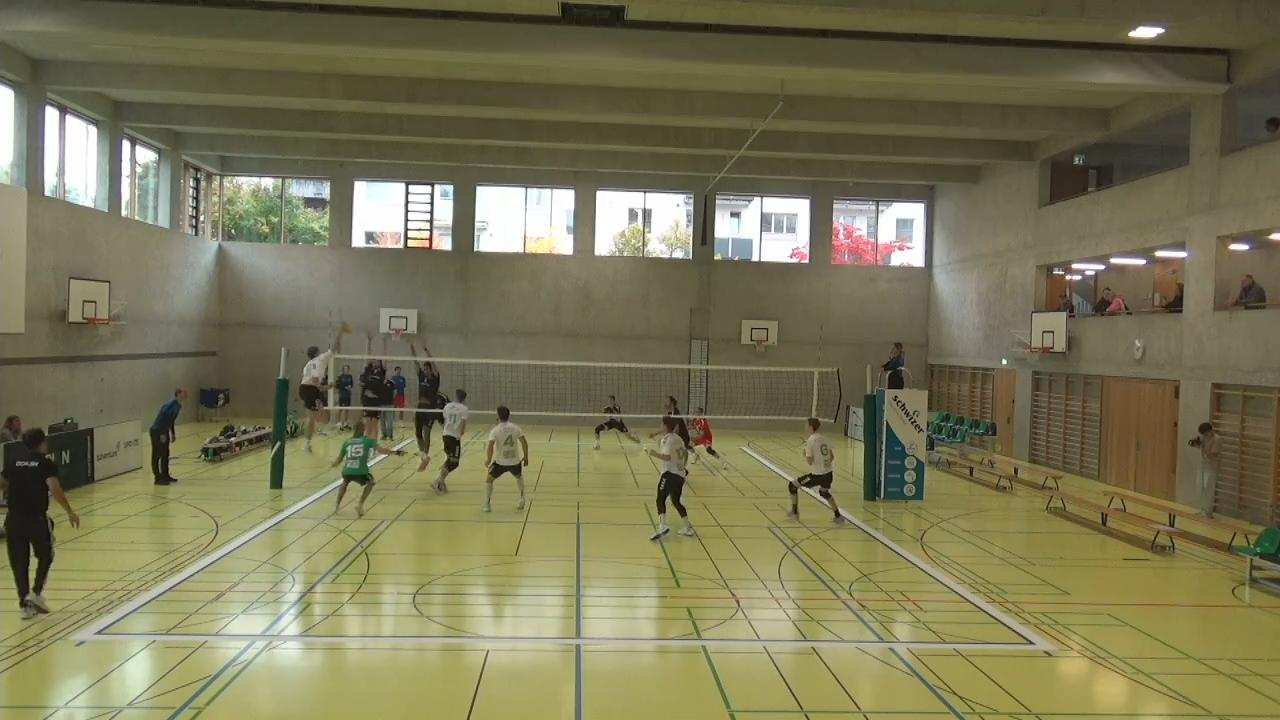Attack: (287, 322, 352, 461)
Block: (394, 321, 445, 478), (355, 320, 392, 456)
Player: (785, 414, 845, 522), (649, 418, 693, 540), (481, 407, 530, 511), (336, 416, 382, 516), (432, 387, 472, 492), (688, 404, 726, 476), (592, 394, 639, 451), (659, 393, 684, 450), (425, 382, 452, 430)
ball: (335, 318, 354, 337)
